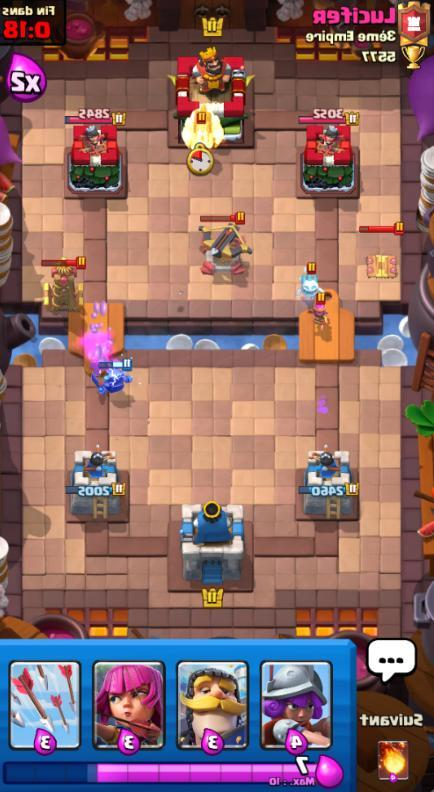enemy_archers: (306, 294, 335, 335)
enemy_ice_spirit: (292, 260, 326, 303)
enemy_tesla: (353, 220, 408, 284), (38, 254, 89, 316)
enemy_xbow: (192, 211, 256, 282)
player_mini_pekka: (88, 356, 137, 397)
